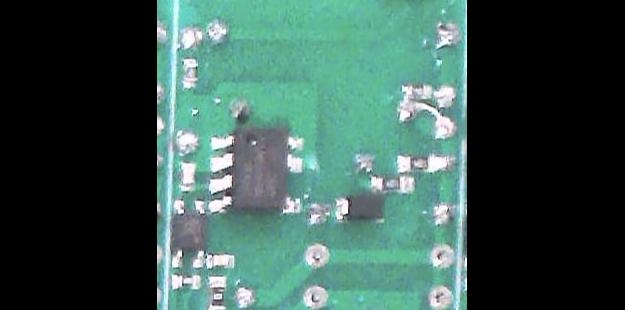chip-capacitor: (179, 160, 198, 192), (206, 252, 236, 270)
chip-resistor: (398, 153, 443, 174), (371, 174, 416, 194), (208, 273, 228, 310), (182, 56, 199, 91), (172, 272, 202, 290), (403, 83, 434, 99)
diode: (334, 193, 385, 223)
ic: (208, 126, 305, 216), (170, 197, 208, 269)
